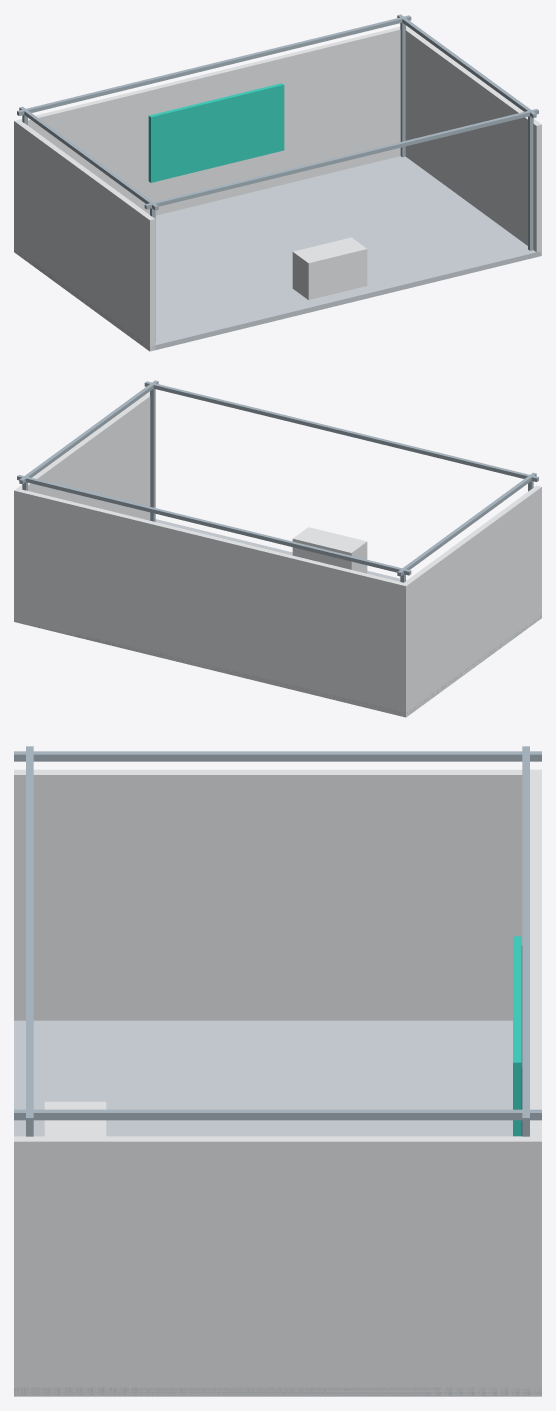
The picture shows the model from 3 angles, top to bottom: view 1: azimuth 30°, elevation 25°; view 2: azimuth 150°, elevation 25°; view 3: azimuth 270°, elevation 25°; orthographic projection. The views are drawn at different scales.
Parts seen in each view (by area): view 1: Exhibition Booth Concept; view 2: Exhibition Booth Concept; view 3: Exhibition Booth Concept.
Boxes of the visible parts, bbox=[...] form: Exhibition Booth Concept: bbox=[14, 14, 541, 351]; Exhibition Booth Concept: bbox=[14, 380, 541, 717]; Exhibition Booth Concept: bbox=[14, 746, 541, 1396].
Bounding box in the file's own units: 10 × 3.49 × 6.
